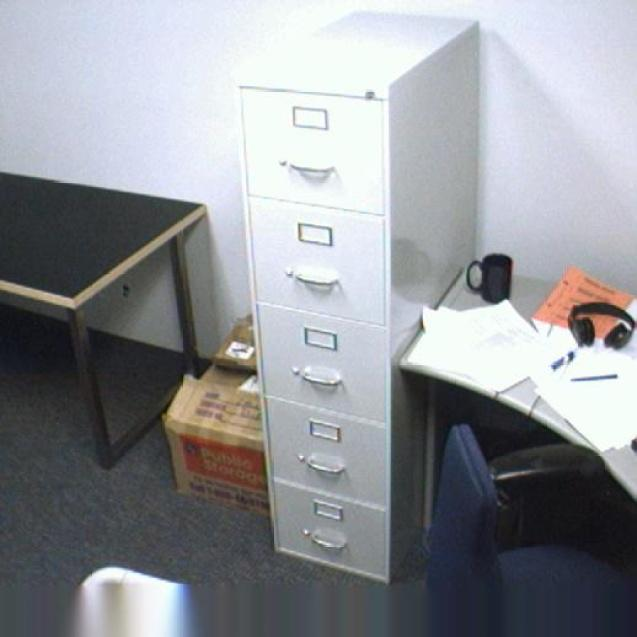Filing Cabinet: (236, 8, 480, 582)
Meja: (0, 169, 210, 470)
